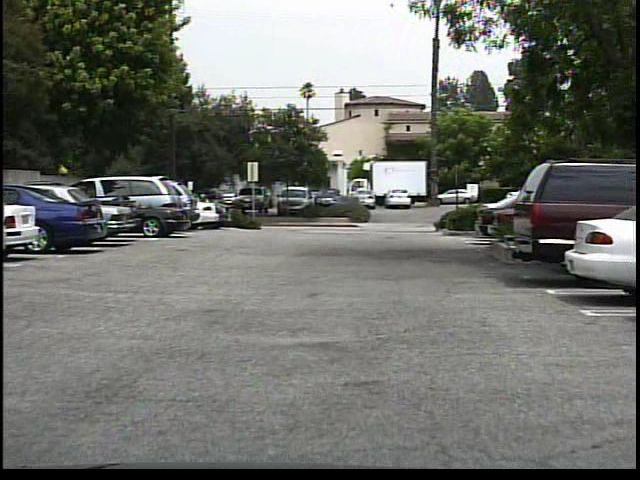person: (204, 192, 218, 224)
